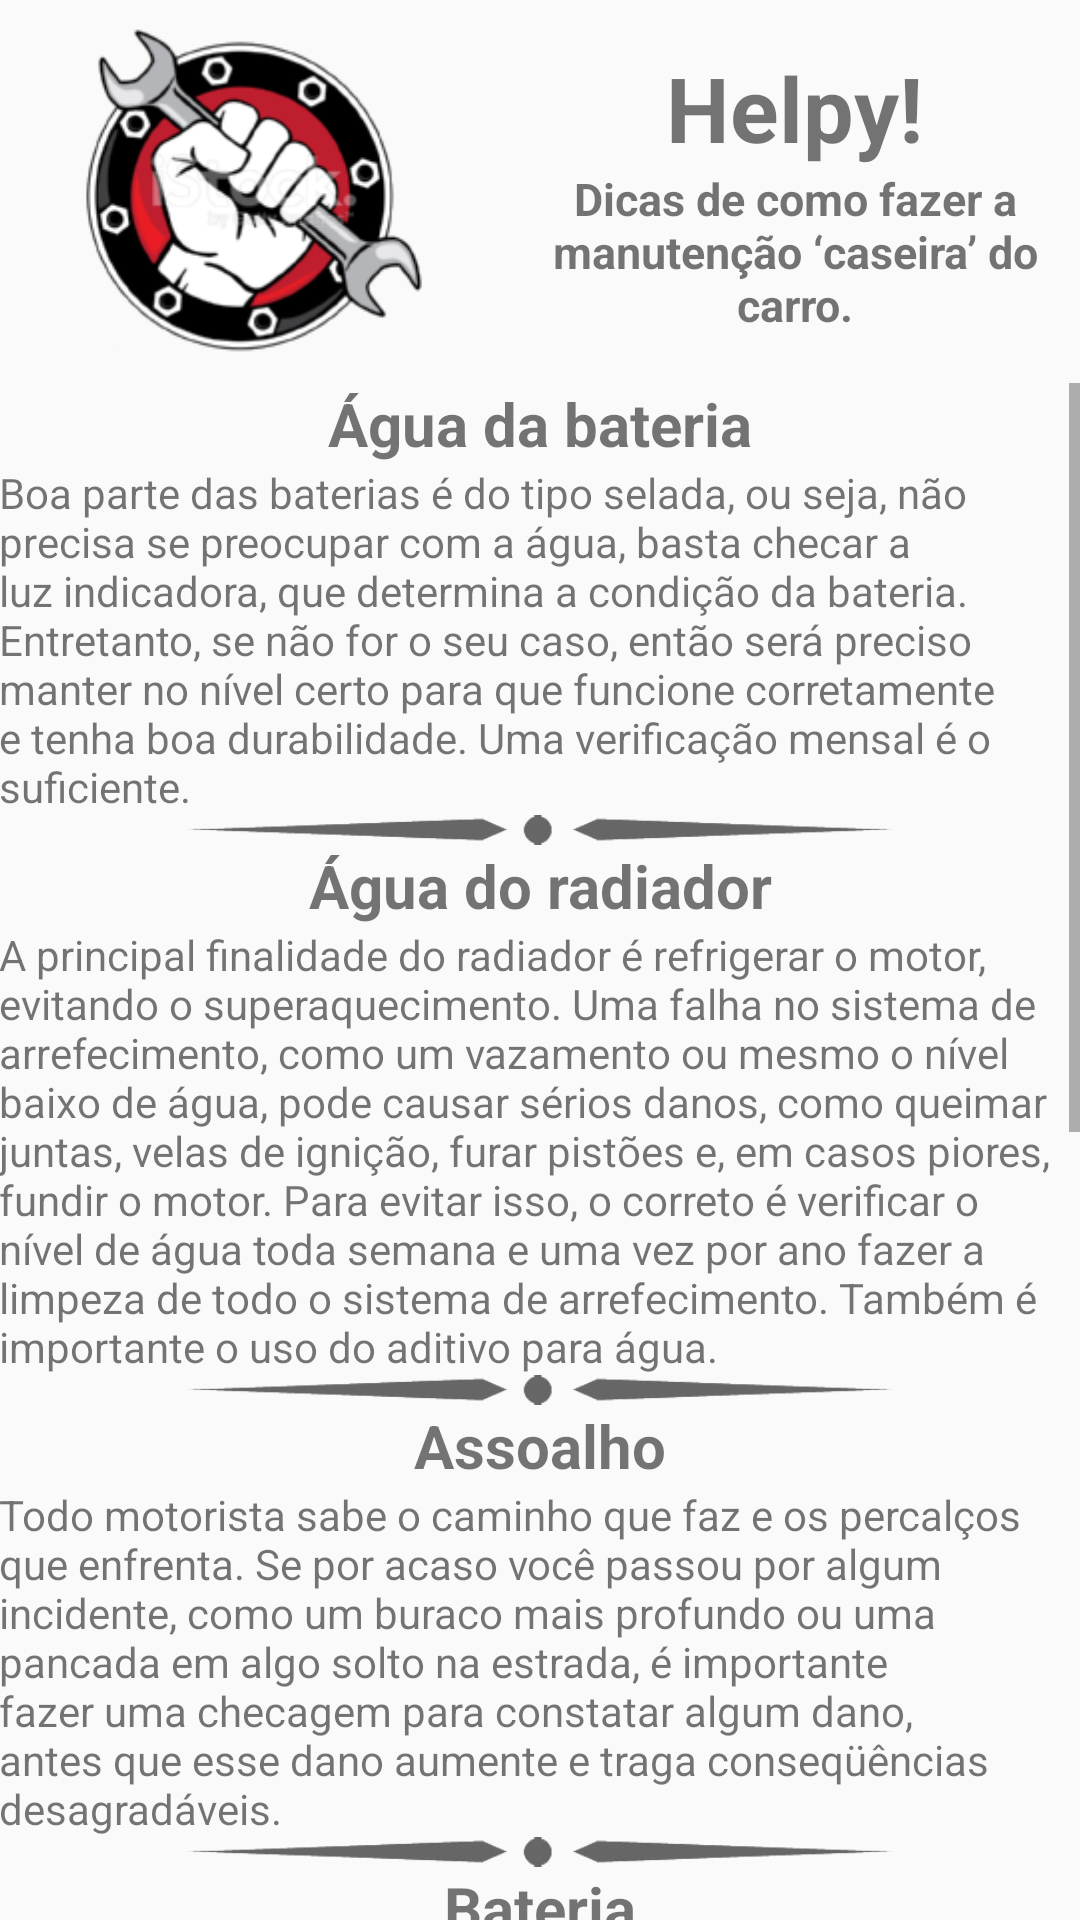

Where to tap for icons on this 1080px×1920px app screen, as point (x, y):
punho: point (254, 190)
